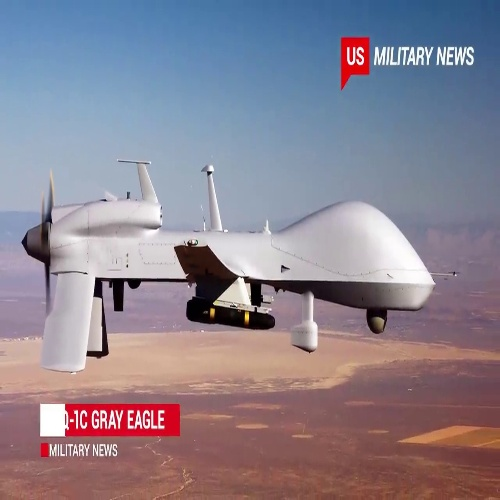uav100: (20, 158, 437, 383)
